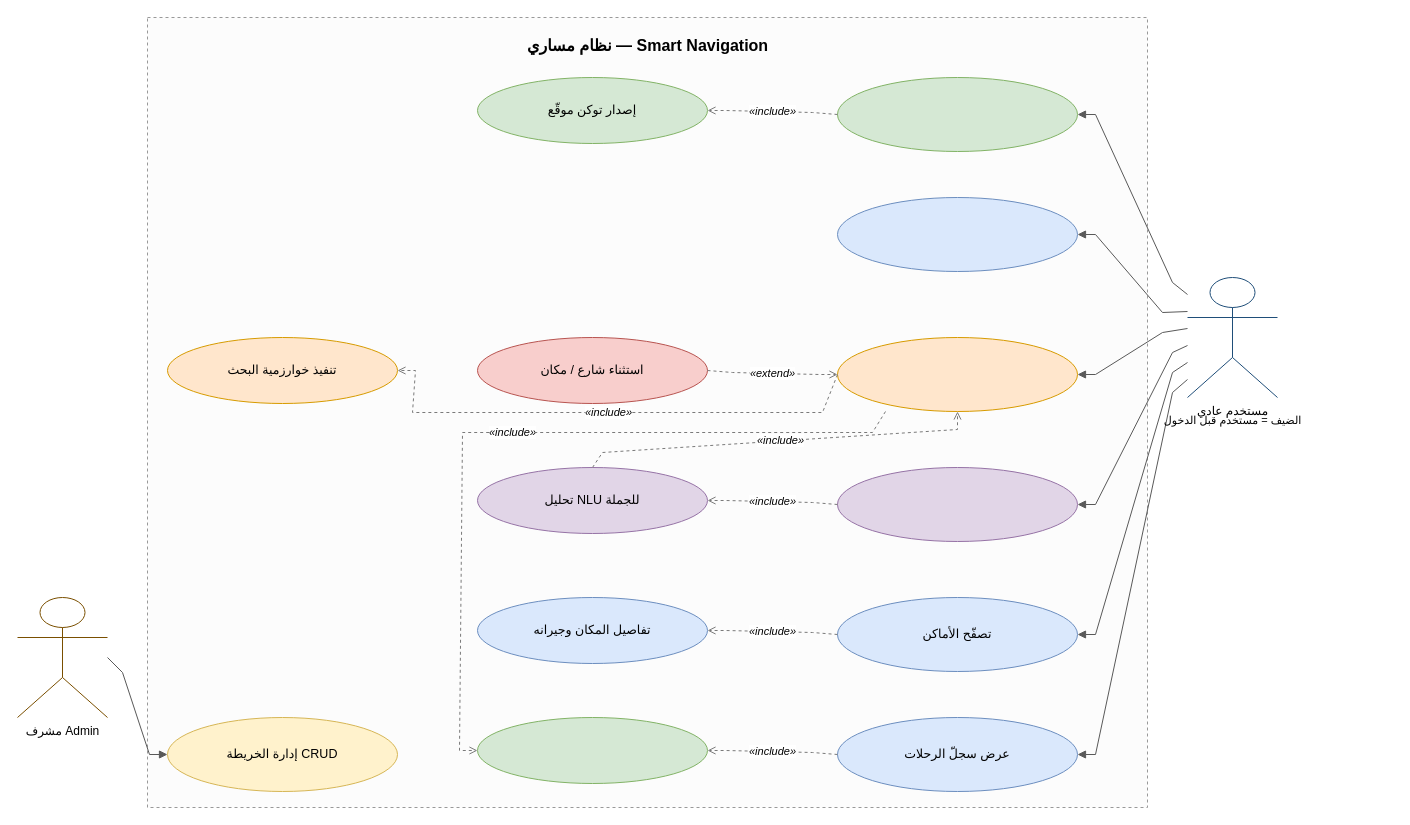
The diagram is 1410 pixels wide and 825 high, and some of its shapes have lost their labels. Each missing label, with the centre of its shape:
إدخال أمر لغوي عربي: pixel 957 504
تخطيط المسار A*/UCS: pixel 957 374
تسجيل الدخول / حساب جديد: pixel 957 114
حفظ في سجلّ الرحلات: pixel 592 750
عرض الخريطة التفاعلية: pixel 957 234
